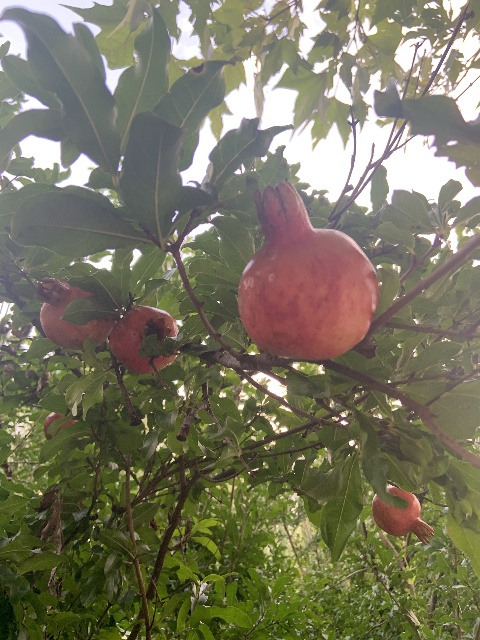ripe: (236, 180, 379, 360), (39, 277, 110, 350), (109, 306, 179, 374), (371, 485, 434, 544), (44, 412, 79, 440)
